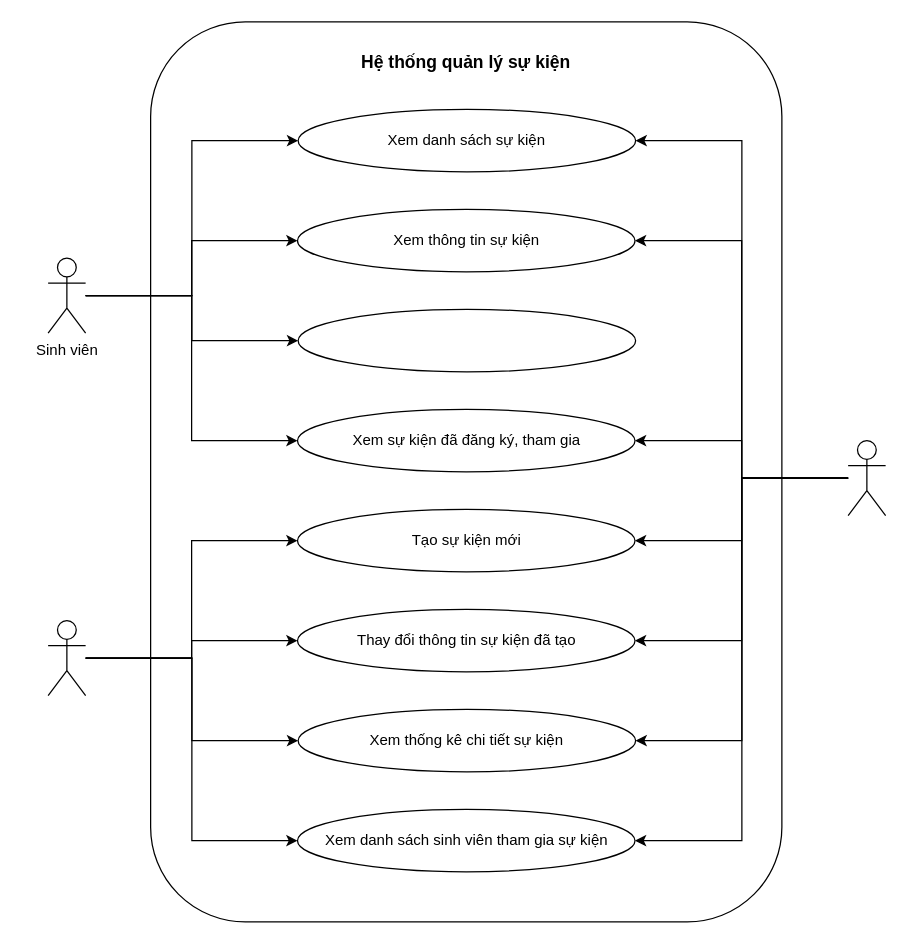
This 914x944 diagram has some shape labels left out. The shapes that lost their labels are listed below. From the top down, each one's centre as x and y in pixels, then its label:
At point 466,340: "Đăng ký, hủy đăng ký tham gia sự kiện".
At point 866,477: "Quản lý".
At point 66,657: "Phòng, Khoa Câu lạc bộ".
